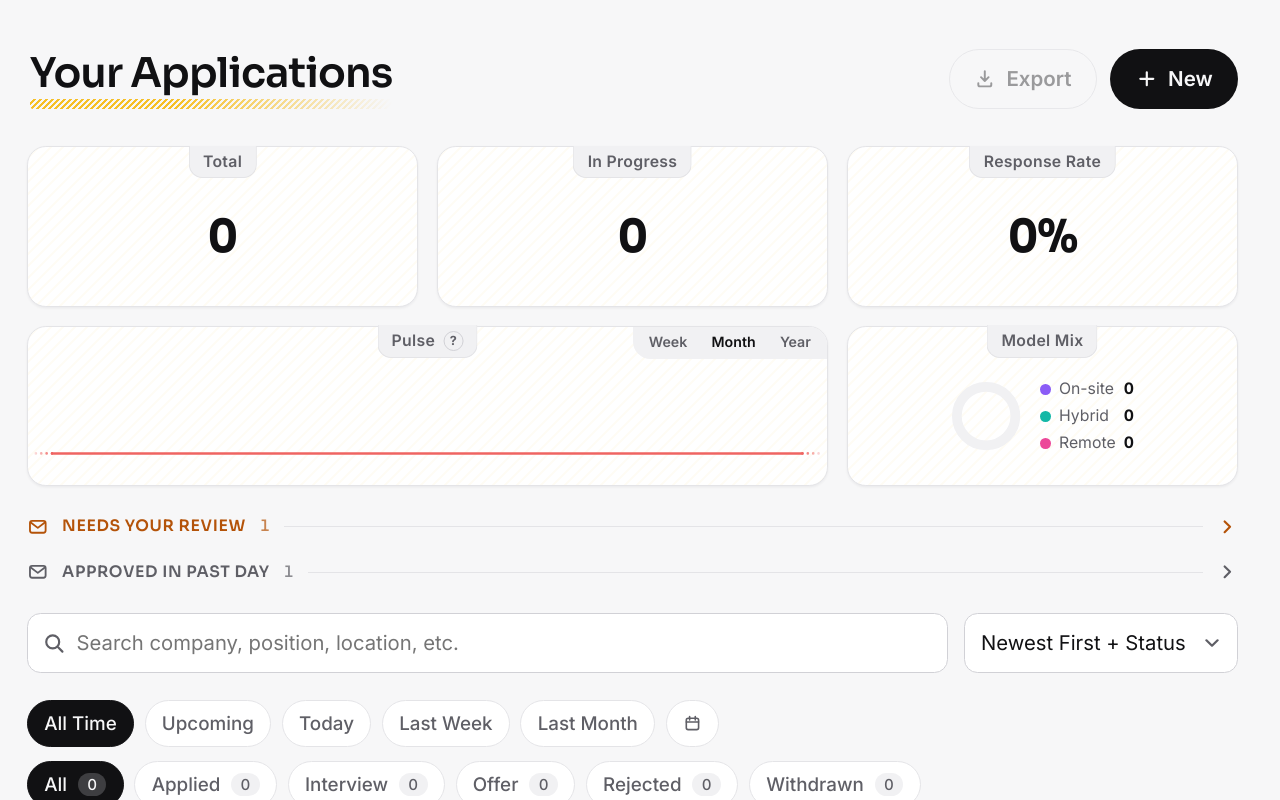
Applications › shows a failed undo's message in the recent updates, not in the review section
Click the button "Approved in past day 1" at (632, 572), box left=27, top=559, right=1238, bottom=586
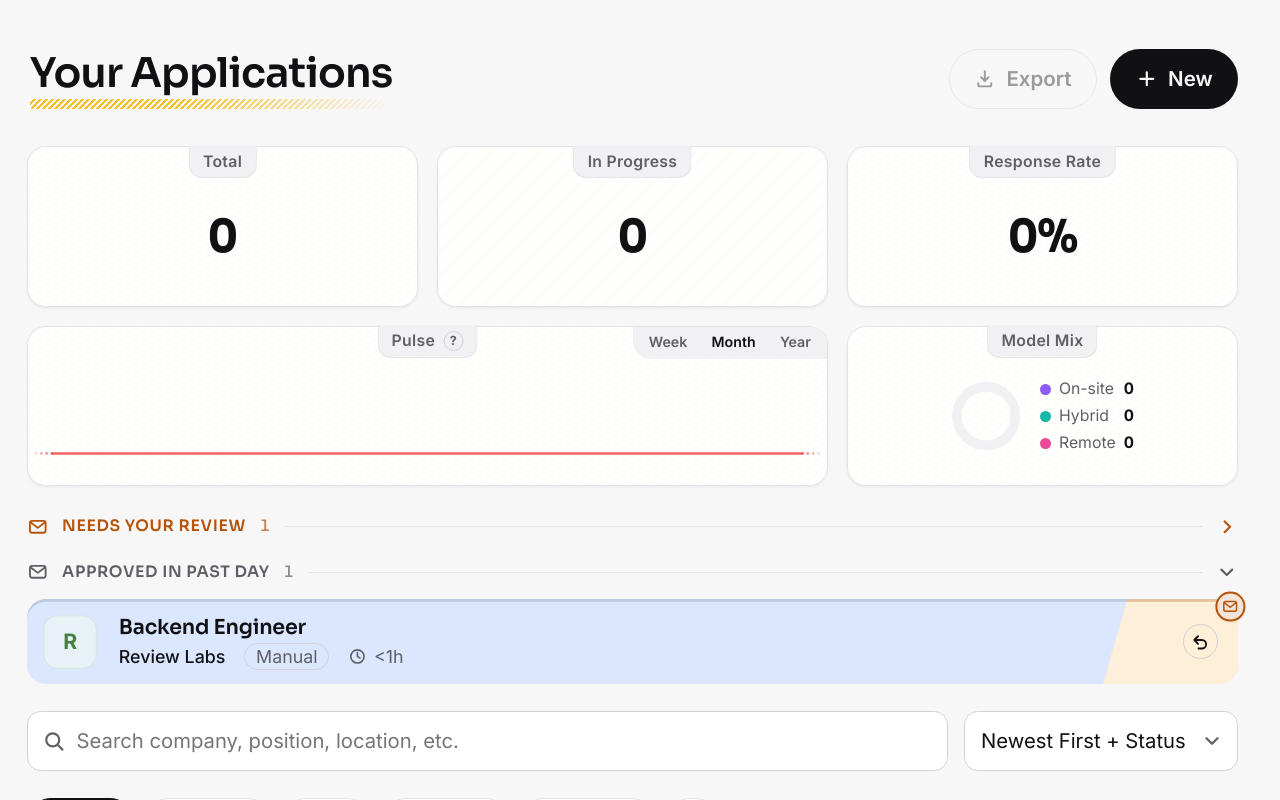
Click the button "Needs your review 1" at (632, 526), box left=27, top=513, right=1238, bottom=540
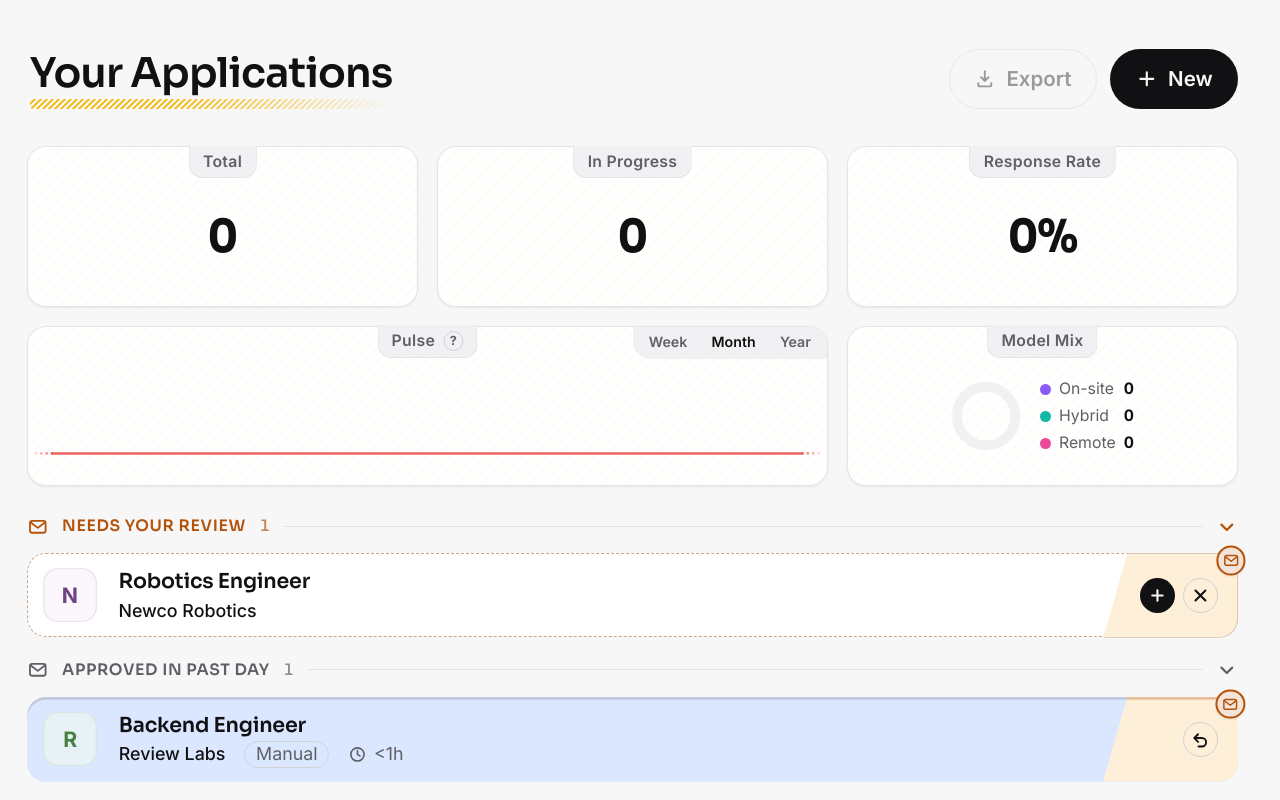
Click the button named "Undo" at (1200, 739), box left=1183, top=722, right=1218, bottom=757
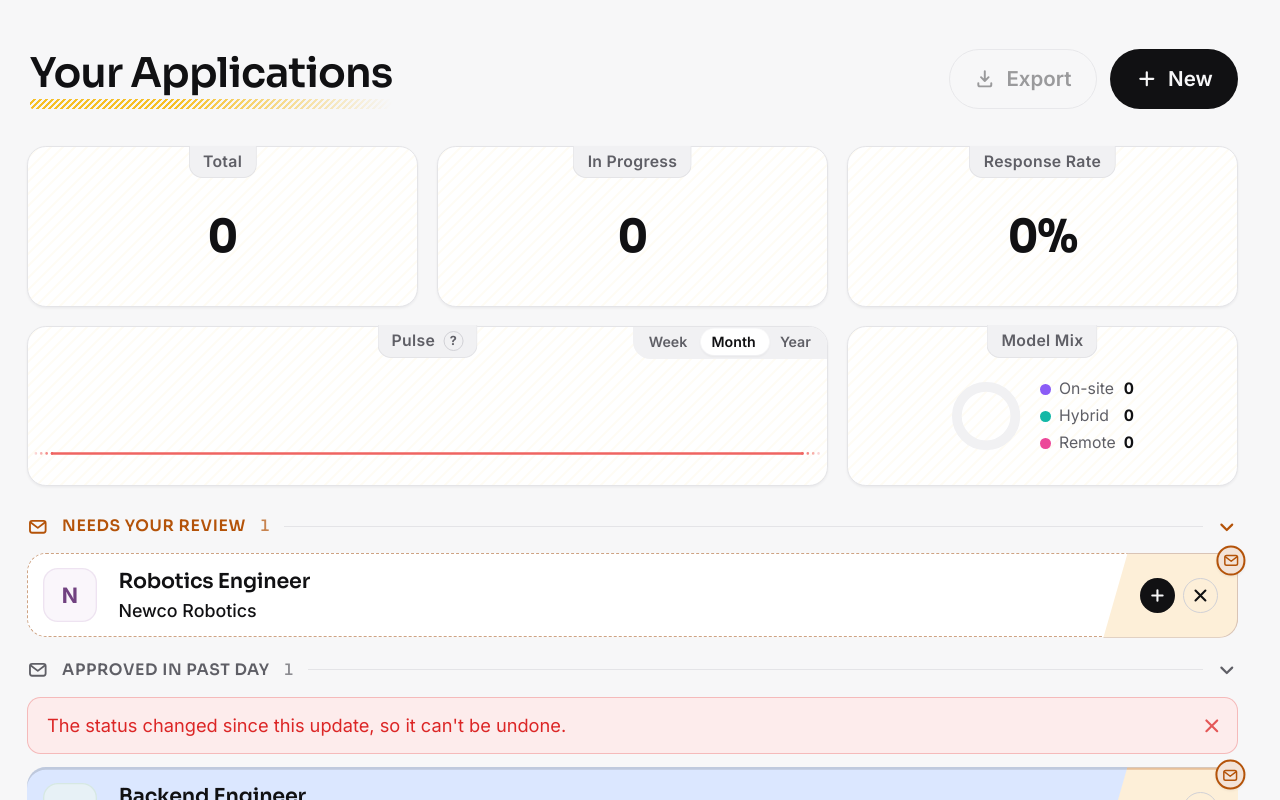
Result: the text "The status changed since this update, so it can't be undone." is shown at left=47, top=714, right=566, bottom=736
